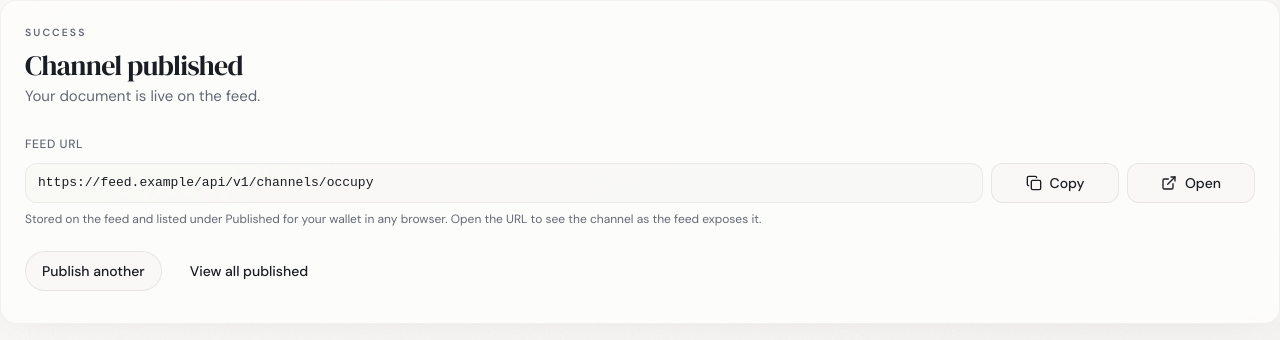
it: PostPublishPanel › copies the feed URL and flips the button label briefly
Click the button with aria-label "Copy feed URL".
click(1055, 183)  # box [991,163,1119,203]
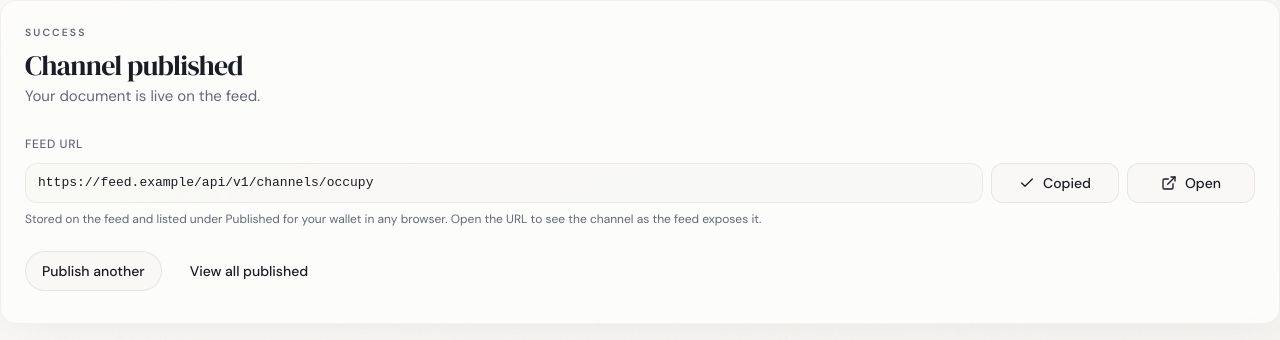
Expected: the button with aria-label "Copy feed URL" reads "Copied", [991,163,1119,203]
